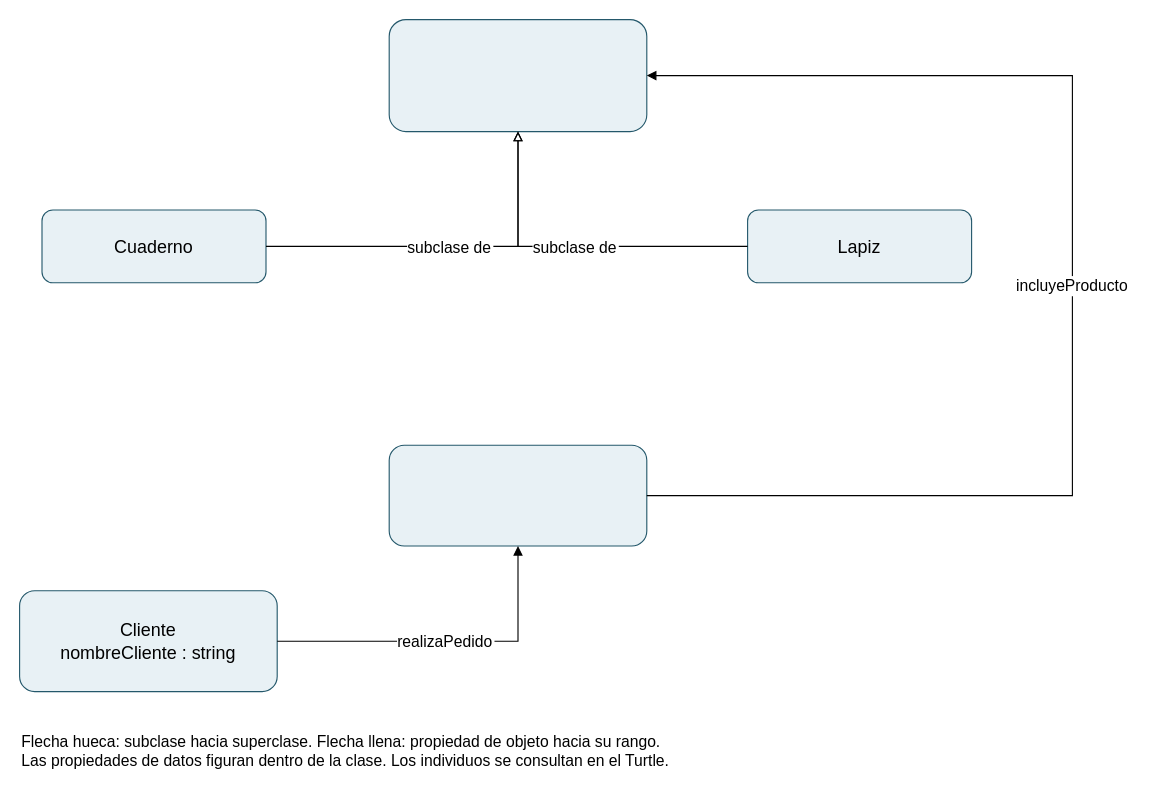
Some shapes in this 1149 by 806 pixel diagram are drawn without their labels. The shapes that lost their labels are listed below. From the top down, each one's box as (x1, y1, x2, y2) in pixels, then its label:
(388, 18, 647, 132): Producto nombreProducto : string precioUnitario : decimal
(388, 444, 647, 546): Pedido fechaPedido : date
